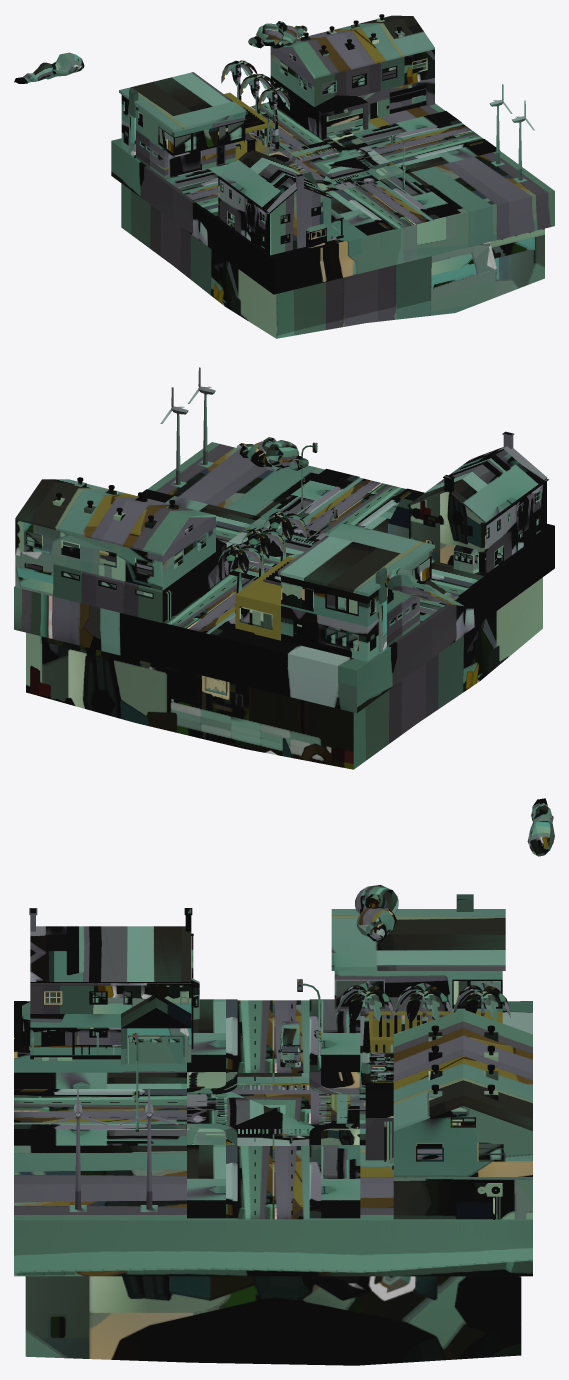
3 renders of one model, top to bottom at view 1: azimuth 30°, elevation 25°; view 2: azimuth 150°, elevation 25°; view 3: azimuth 270°, elevation 25°, orthographic. The views are drawn at different scales.
Parts seen in each view (by area): view 1: world-field_Baked, industry-building_Baked, building-house-modern_Baked, building-house-family-large_Baked, tile-mainroad-straight-nb_Baked, tile-mainroad-straight-nb.002_Baked, tile-mainroad-intersection-nb_Baked, tile-mainroad-straight-nb.001_Baked, tile-mainroad-straight-nb.003_Baked, cloud-big_Baked, cloud-long_Baked, palm_Baked (+2 smaller); view 2: world-field_Baked, industry-building_Baked, building-house-modern_Baked, building-house-family-large_Baked, tile-mainroad-straight-nb.002_Baked, tile-mainroad-straight-nb.003_Baked, tile-mainroad-intersection-nb_Baked, tile-mainroad-straight-nb_Baked, cloud-big_Baked, tile-mainroad-straight-nb.001_Baked, cloud-long_Baked, palm.001_Baked (+2 smaller); view 3: world-field_Baked, industry-building_Baked, building-house-family-large_Baked, building-house-modern_Baked, tile-mainroad-straight-nb_Baked, tile-mainroad-intersection-nb_Baked, tile-mainroad-straight-nb.002_Baked, tile-mainroad-straight-nb.001_Baked, cloud-big_Baked, palm_Baked, palm.002_Baked, cloud-long_Baked (+3 smaller).
Boxes of the visible parts, <box> form: world-field_Baked: <box>111,103,554,338</box>; industry-building_Baked: <box>270,14,434,139</box>; building-house-modern_Baked: <box>119,72,272,178</box>; building-house-family-large_Baked: <box>217,138,344,255</box>; tile-mainroad-straight-nb_Baked: <box>353,111,499,173</box>; tile-mainroad-straight-nb.002_Baked: <box>326,173,460,235</box>; tile-mainroad-intersection-nb_Baked: <box>266,134,405,192</box>; tile-mainroad-straight-nb.001_Baked: <box>165,162,233,218</box>; tile-mainroad-straight-nb.003_Baked: <box>248,102,351,154</box>; cloud-big_Baked: <box>248,21,307,48</box>; cloud-long_Baked: <box>14,52,84,83</box>; palm_Baked: <box>258,87,294,151</box>; world-field_Baked: <box>14,442,554,769</box>; industry-building_Baked: <box>15,477,226,622</box>; building-house-modern_Baked: <box>235,523,434,661</box>; building-house-family-large_Baked: <box>388,431,548,574</box>; tile-mainroad-straight-nb.002_Baked: <box>261,468,424,533</box>; tile-mainroad-straight-nb.003_Baked: <box>163,574,254,641</box>; tile-mainroad-intersection-nb_Baked: <box>226,517,327,580</box>; tile-mainroad-straight-nb_Baked: <box>138,489,260,543</box>; cloud-big_Baked: <box>236,437,308,470</box>; tile-mainroad-straight-nb.001_Baked: <box>420,560,488,620</box>; cloud-long_Baked: <box>385,567,467,606</box>; palm.001_Baked: <box>218,543,262,612</box>; world-field_Baked: <box>14,1001,532,1365</box>; industry-building_Baked: <box>361,1009,532,1219</box>; building-house-family-large_Baked: <box>22,908,199,1064</box>; building-house-modern_Baked: <box>331,894,505,1052</box>; tile-mainroad-straight-nb_Baked: <box>187,1145,360,1219</box>; tile-mainroad-intersection-nb_Baked: <box>187,1072,359,1145</box>; tile-mainroad-straight-nb.002_Baked: <box>14,1072,186,1145</box>; tile-mainroad-straight-nb.001_Baked: <box>187,999,360,1072</box>; cloud-big_Baked: <box>355,885,398,941</box>; palm_Baked: <box>336,983,394,1087</box>; palm.002_Baked: <box>394,983,451,1024</box>; cloud-long_Baked: <box>527,798,554,856</box>.
Size of the model in its own units: 26.27 by 15.16 by 20.51.
Materials: 1 (1 with a texture image).
